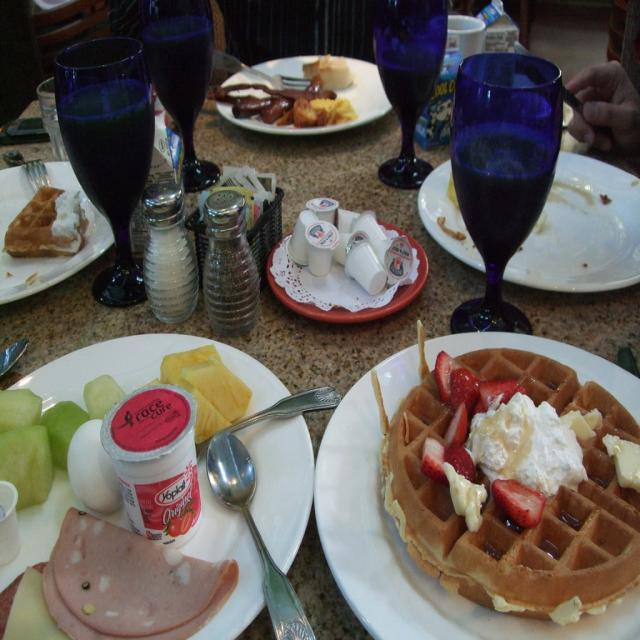Waffle: (379, 315, 639, 629), (4, 185, 86, 261)
